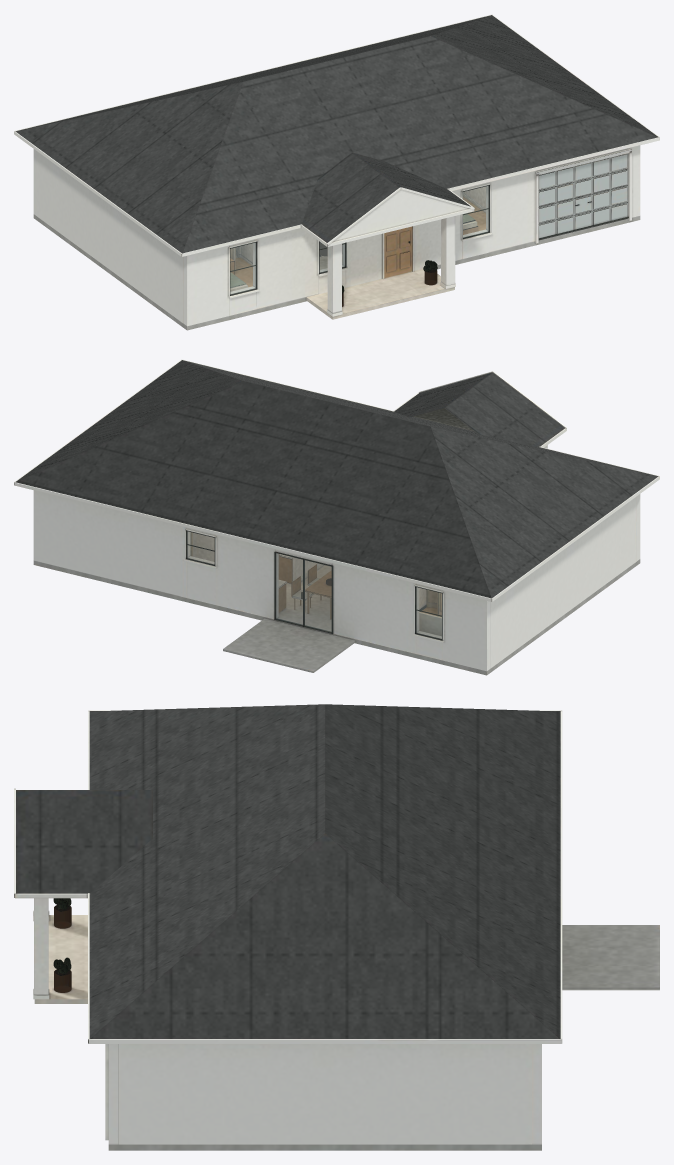
The model's file is bell-baked.glb.
The picture shows the model from 3 angles, top to bottom: view 1: azimuth 30°, elevation 25°; view 2: azimuth 150°, elevation 25°; view 3: azimuth 270°, elevation 25°; orthographic projection. The views are drawn at different scales.
Parts seen in each view (by area): view 1: Roof, House, Bell / Vidrio; view 2: Roof, House, Bell / Vidrio; view 3: Roof, House.
Boxes of the visible parts, x1,y1,x2,y2 form: Roof: (14, 14, 659, 256); House: (33, 145, 640, 330); Bell / Vidrio: (230, 186, 488, 294); Roof: (14, 359, 659, 601); House: (33, 445, 640, 675); Bell / Vidrio: (187, 531, 441, 638); Roof: (14, 704, 562, 1043); House: (33, 898, 659, 1150).
Bounding box in the file's own units: 16.08 × 5.14 × 13.33.
2 materials, 1 textured.
